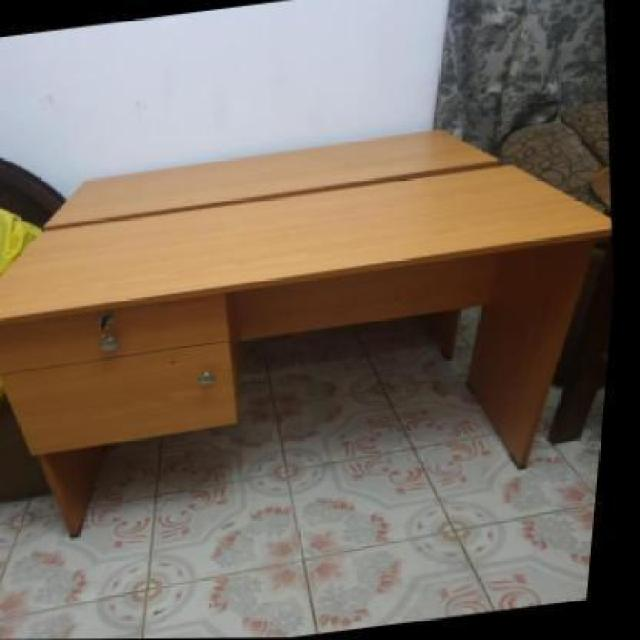tables: (0, 129, 611, 537)
